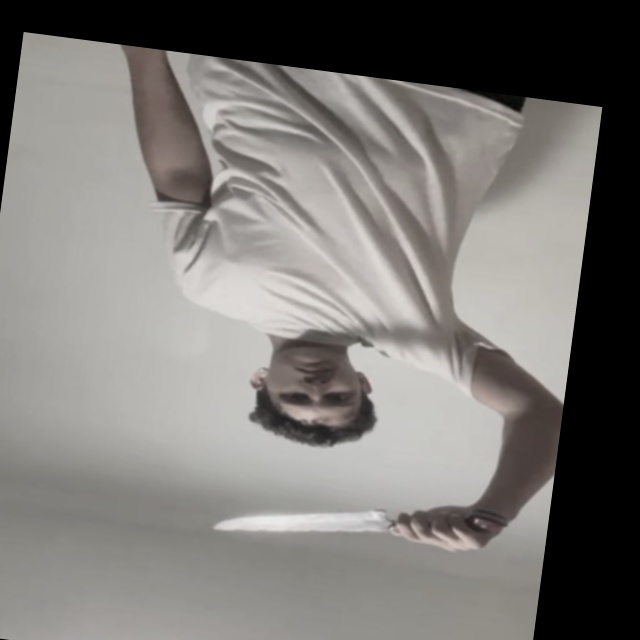Sharp-Object: (212, 491, 386, 552)
